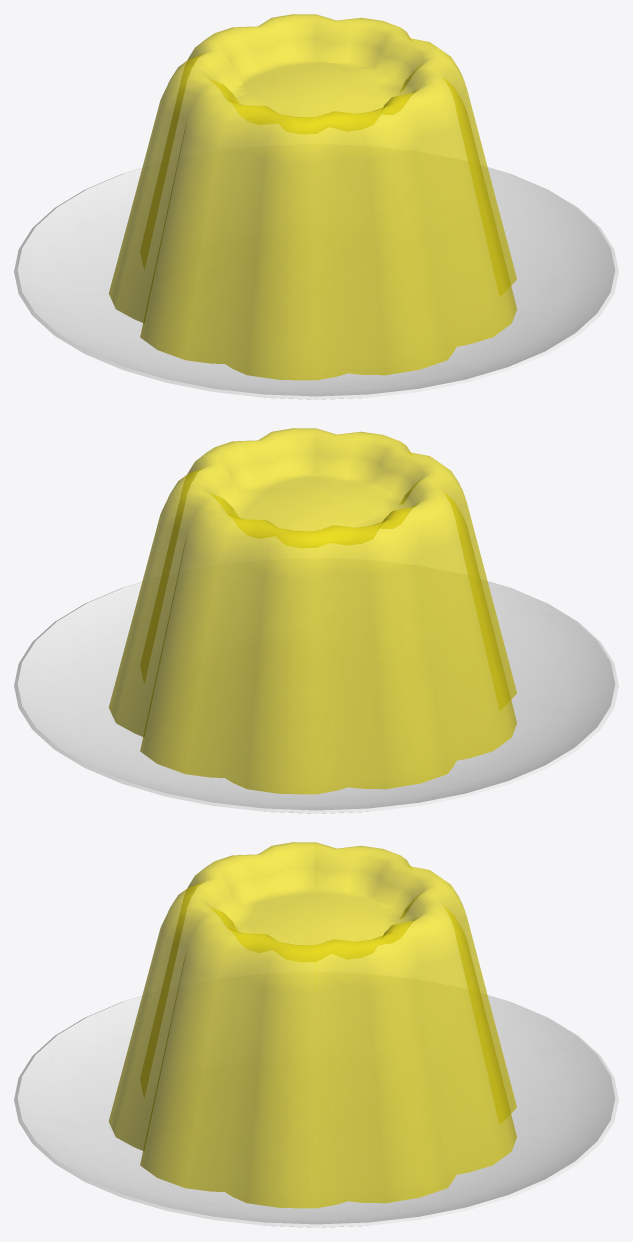
3 views of the same model, one above another, from view 1: azimuth 30°, elevation 25°; view 2: azimuth 150°, elevation 25°; view 3: azimuth 270°, elevation 25° (orthographic).
Parts seen in each view (by area): view 1: Jelly; view 2: Jelly; view 3: Jelly.
Boxes of the visible parts, x1,y1,x2,y2 form: Jelly: [14, 14, 618, 399]; Jelly: [14, 428, 618, 813]; Jelly: [14, 842, 618, 1227].
Bounding box in the file's own units: 0.2137 × 0.0934 × 0.2137.
